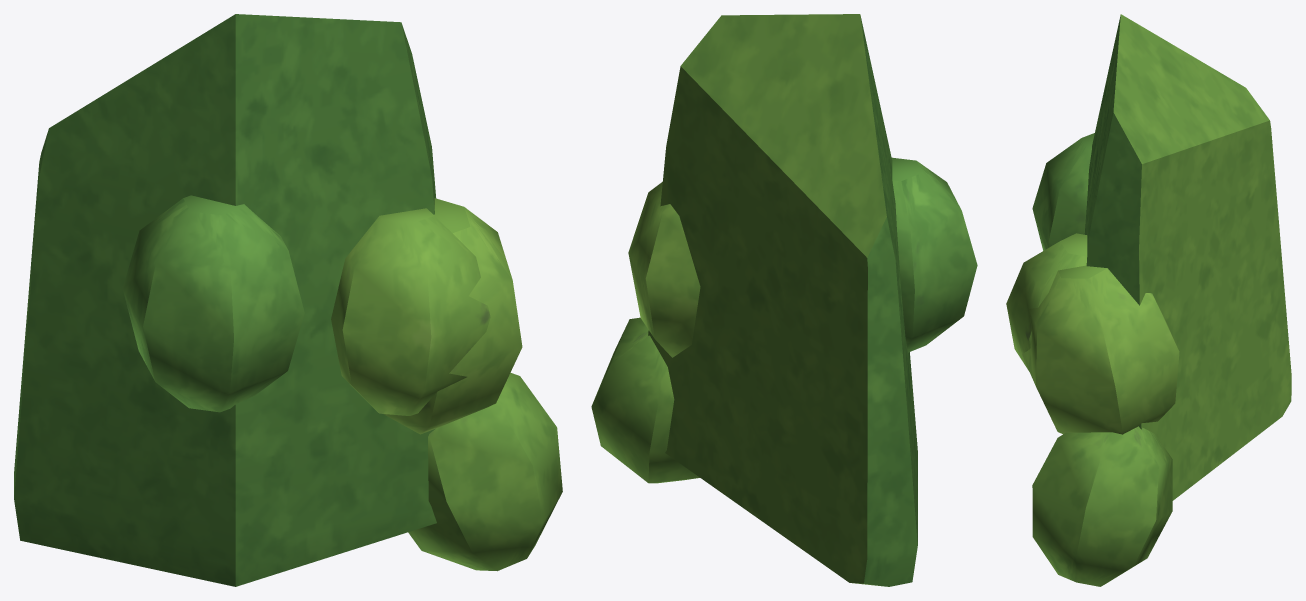
The model's file is cypress_s01.fbx.
The picture shows the model from 3 angles, left to right: view 1: azimuth 30°, elevation 25°; view 2: azimuth 150°, elevation 25°; view 3: azimuth 270°, elevation 25°; orthographic projection. The views are drawn at different scales.
Parts seen in each view (by area): view 1: cypress_s01; view 2: cypress_s01; view 3: cypress_s01.
Part boxes in pixels (x1,y1,x2,y2): cypress_s01: [14, 14, 562, 586]; cypress_s01: [591, 14, 977, 586]; cypress_s01: [1006, 14, 1291, 586].
Bounding box in the file's own units: 4.4 × 5.65 × 3.07.
